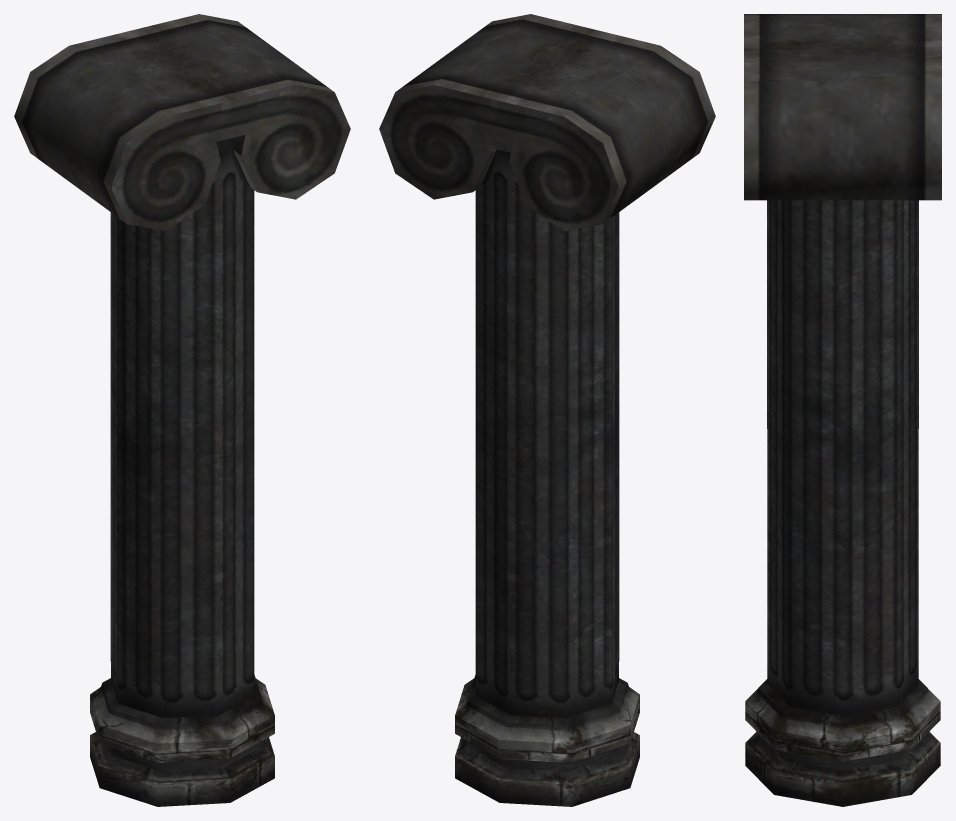
File: roman_short.dae
3 renders of one model, left to right at view 1: azimuth 30°, elevation 25°; view 2: azimuth 150°, elevation 25°; view 3: azimuth 270°, elevation 25°, orthographic. The views are drawn at different scales.
Parts seen in each view (by area): view 1: polySurface3; view 2: polySurface3; view 3: polySurface3.
Boxes of the visible parts, x1=… form: polySurface3: x1=14, y1=14, x2=350, y2=806; polySurface3: x1=379, y1=14, x2=715, y2=806; polySurface3: x1=744, y1=14, x2=941, y2=806.
Size of what is drawn, in the model's own units: 1.43 by 3.99 by 0.9988.
